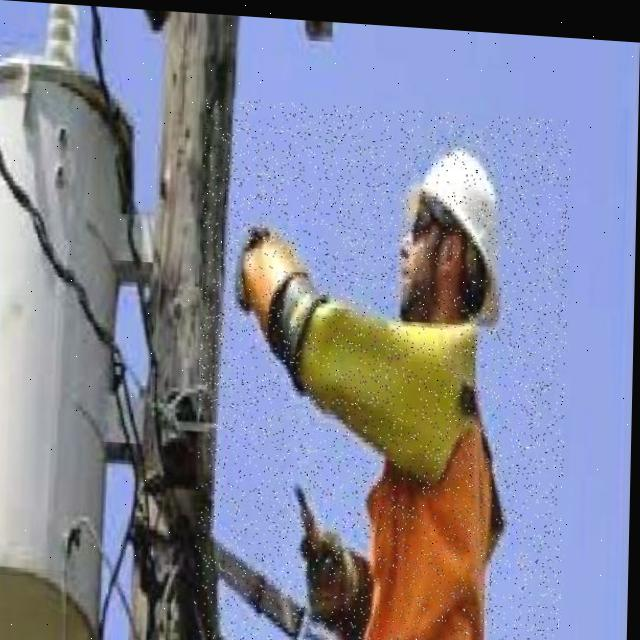Helmet: (377, 76, 630, 337)
Safety-Vest: (357, 410, 503, 640)
